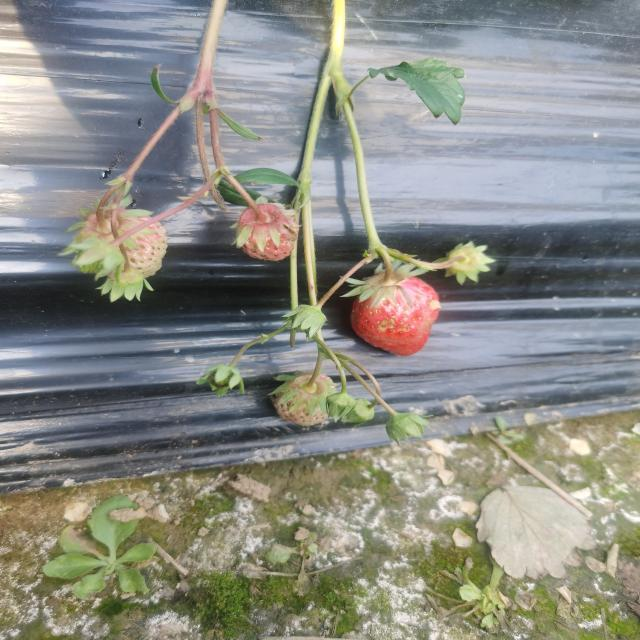stem: (238, 189, 267, 223), (384, 256, 392, 284)
strawberry: (350, 273, 439, 356), (237, 203, 299, 261)
